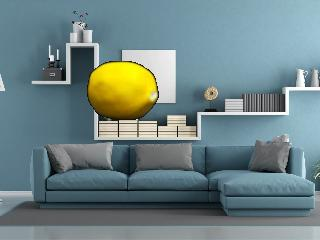lemon: (88, 61, 158, 119)
